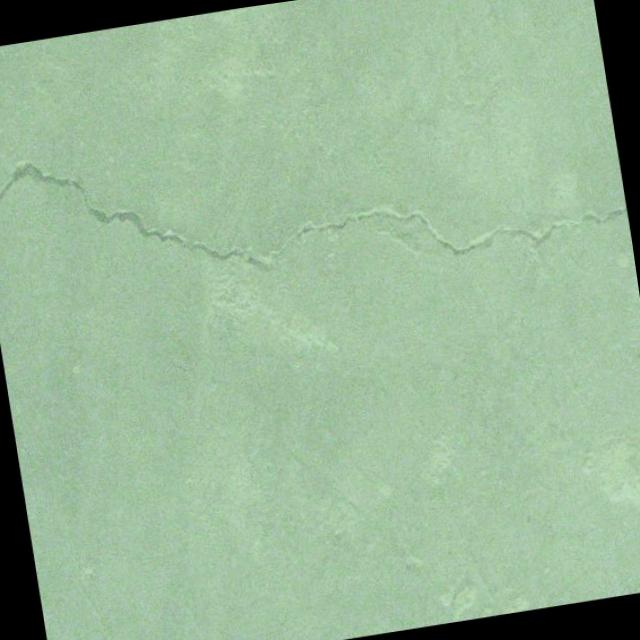crack: (0, 127, 275, 317), (268, 172, 632, 290)
